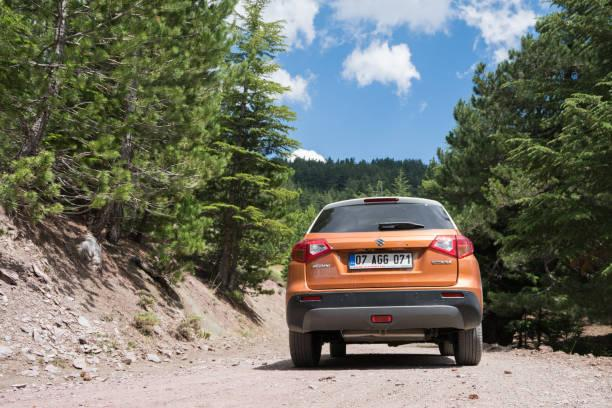suzuki: (371, 235, 391, 251)
